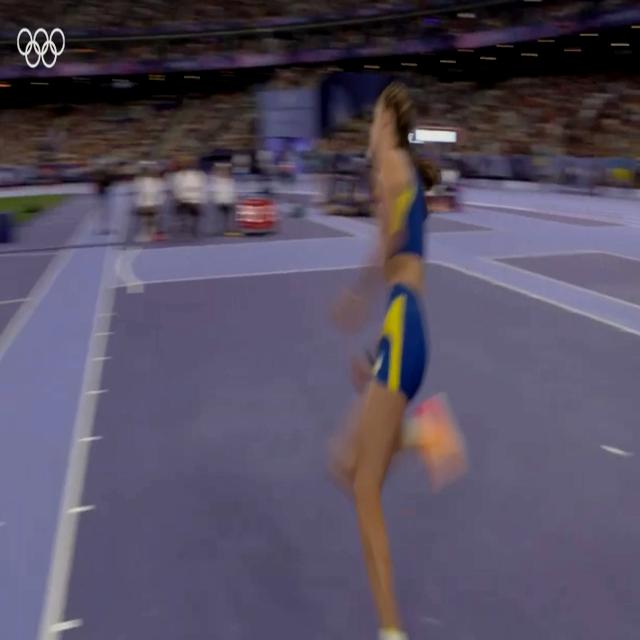run: (322, 87, 467, 640)
